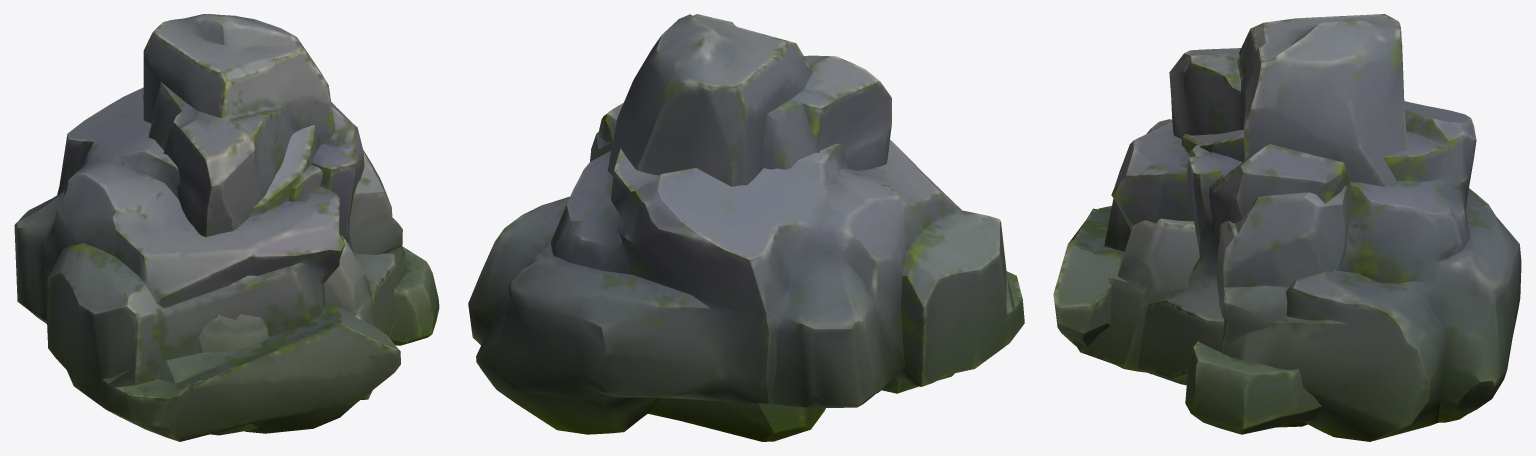
Rendered from rock.glb.
3 views of the same model, side by side, from view 1: azimuth 30°, elevation 25°; view 2: azimuth 150°, elevation 25°; view 3: azimuth 270°, elevation 25° (orthographic). The views are drawn at different scales.
Visible parts, largest first — view 1: Rock_Big_2, Rock_Big_1, Rock_Medium_3; view 2: Rock_Big_2, Rock_Big_1, Rock_Medium_4; view 3: Rock_Big_2, Rock_Big_1, Rock_Medium_3.
Part boxes in pixels (bbox=[...]): Rock_Big_2: bbox=[14, 87, 406, 441]; Rock_Big_1: bbox=[143, 14, 439, 435]; Rock_Medium_3: bbox=[323, 235, 376, 399]; Rock_Big_2: bbox=[468, 102, 1024, 434]; Rock_Big_1: bbox=[590, 14, 954, 393]; Rock_Medium_4: bbox=[648, 398, 825, 441]; Rock_Big_2: bbox=[1053, 101, 1521, 441]; Rock_Big_1: bbox=[1169, 14, 1407, 434]; Rock_Medium_3: bbox=[1073, 218, 1199, 372].
Size of what is drawn, in the model's own units: 5.77 by 4.98 by 5.82.
Materials: 1 (1 with a texture image).
